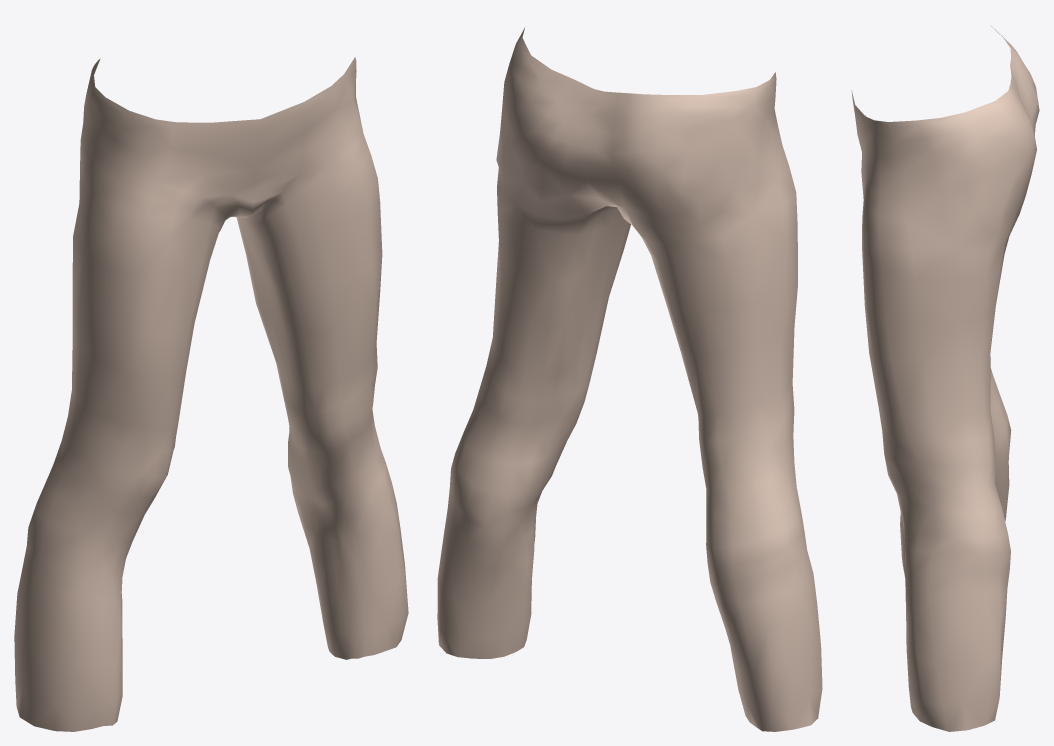
The model's file is trousers.glb.
3 views of the same model, side by side, from view 1: azimuth 30°, elevation 25°; view 2: azimuth 150°, elevation 25°; view 3: azimuth 270°, elevation 25° (orthographic). The views are drawn at different scales.
Parts seen in each view (by area): view 1: Garment; view 2: Garment; view 3: Garment.
Boxes of the visible parts, box(x1,y1,x2,y2) form: Garment: box(14, 57, 408, 731); Garment: box(437, 27, 822, 731); Garment: box(851, 25, 1039, 731).
Size of the model in its own units: 0.548 by 0.8836 by 0.2564.
